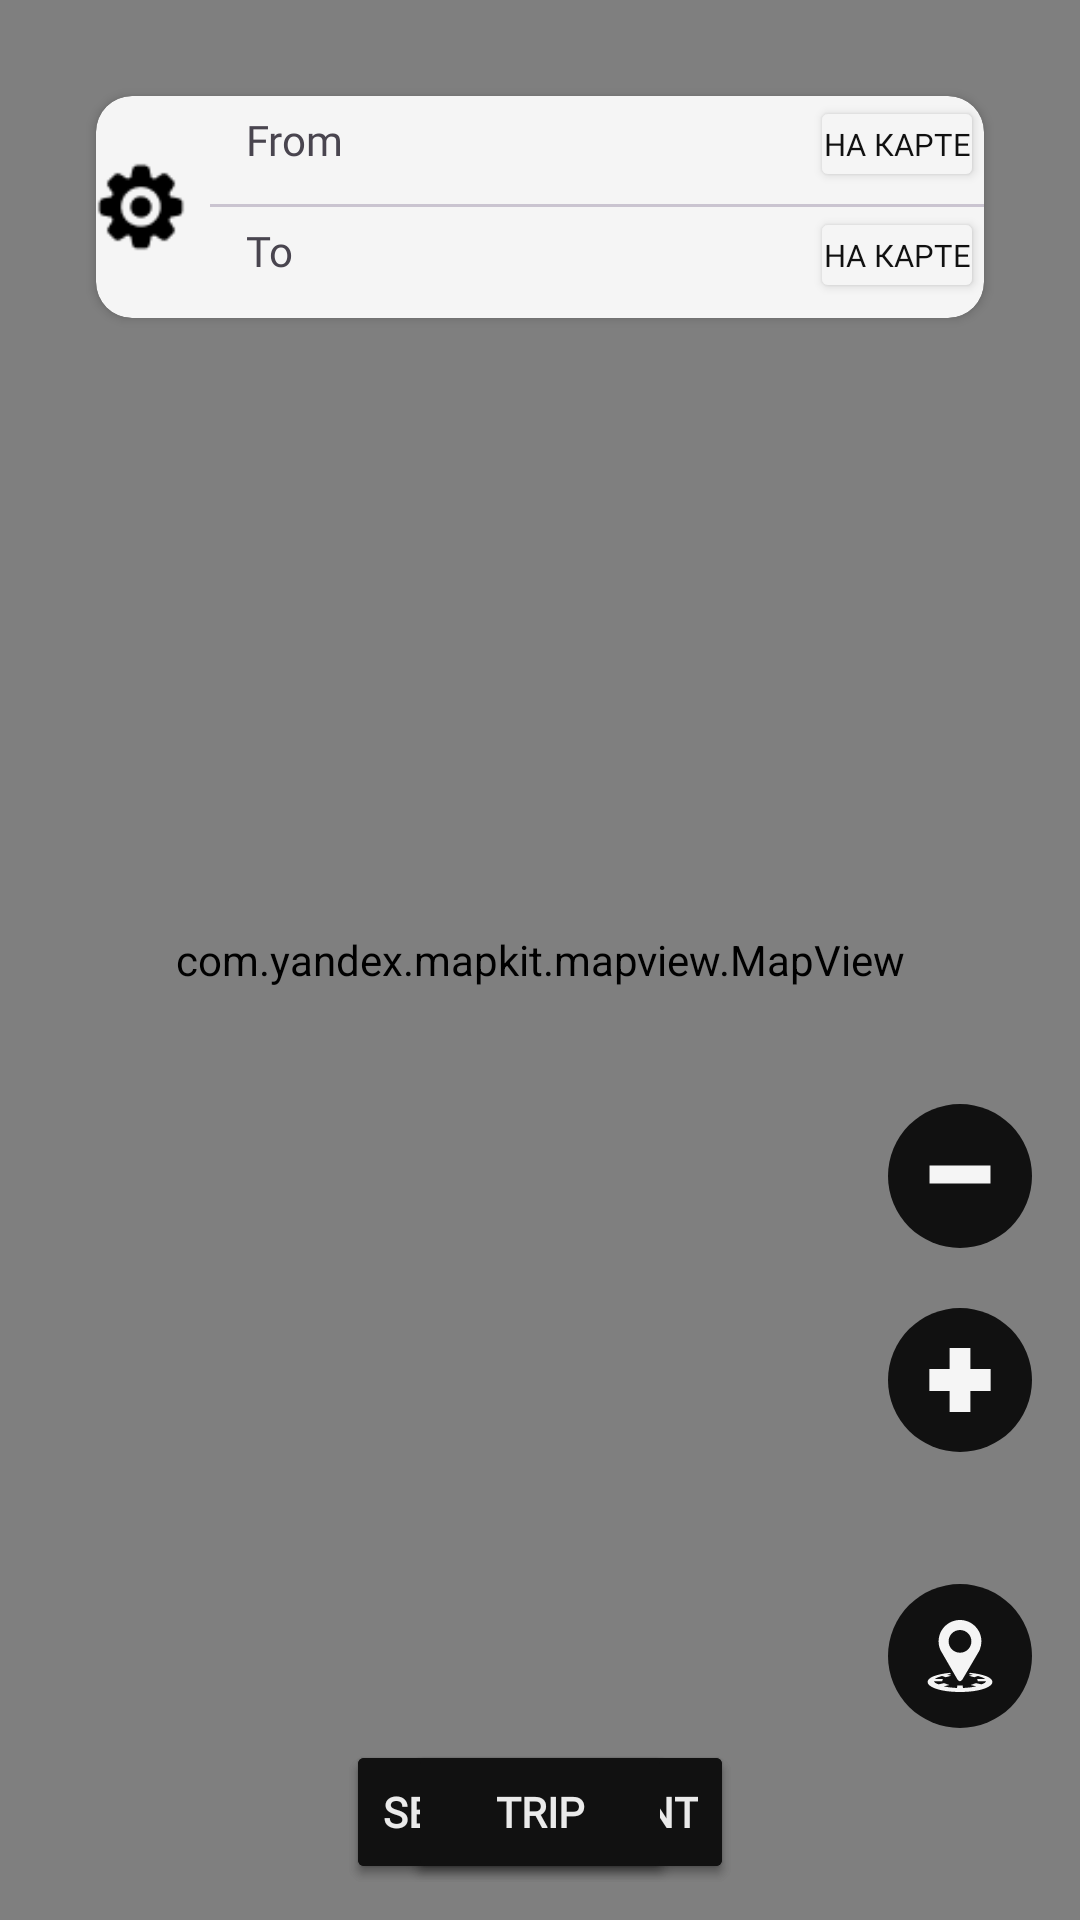

Named icons in this screenshot (1080 x 1920) and their bounding boxes, [left=x1, top=y1, right=x2, bottom=y2]:
minus: [left=888, top=1104, right=1032, bottom=1248]
plus: [left=888, top=1308, right=1032, bottom=1452]
position: [left=888, top=1584, right=1032, bottom=1728]
settings: [left=98, top=164, right=184, bottom=250]
